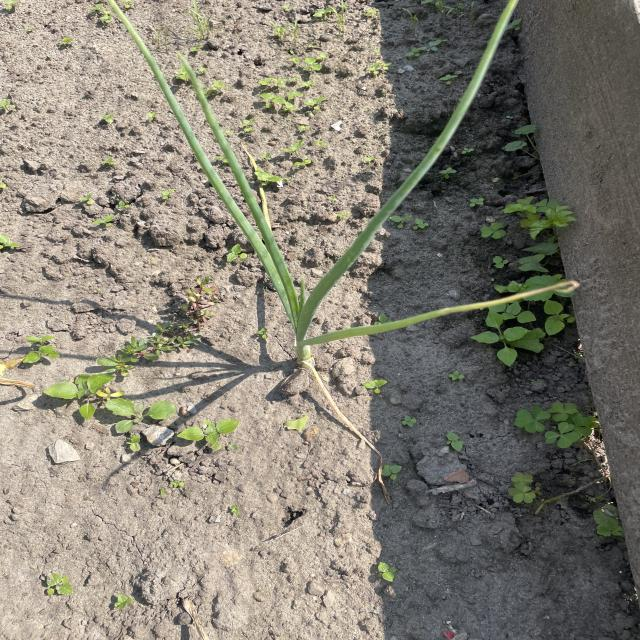Onion: (164, 93, 495, 389)
weed: (15, 328, 246, 460), (473, 190, 586, 378), (520, 394, 612, 456), (500, 469, 552, 512), (582, 504, 634, 540)
